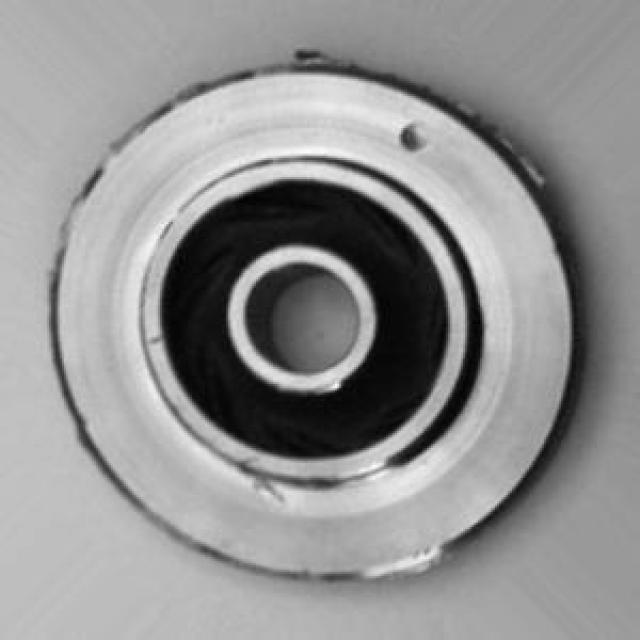Defect: (395, 110, 427, 155)
